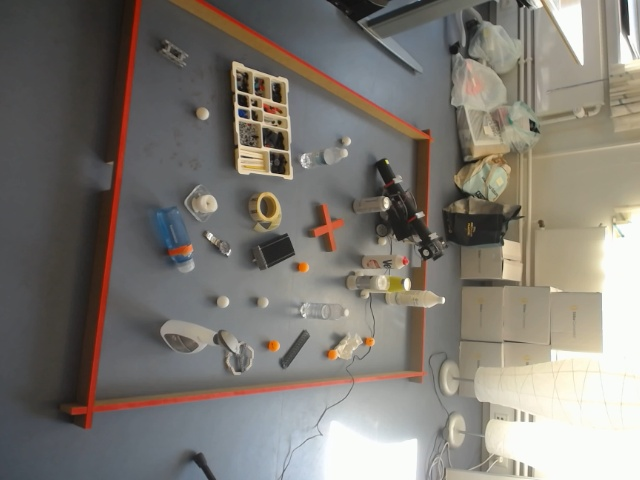robot: (152, 321, 255, 376)
white: (450, 412, 465, 433), (404, 277, 411, 290), (344, 135, 351, 145)
